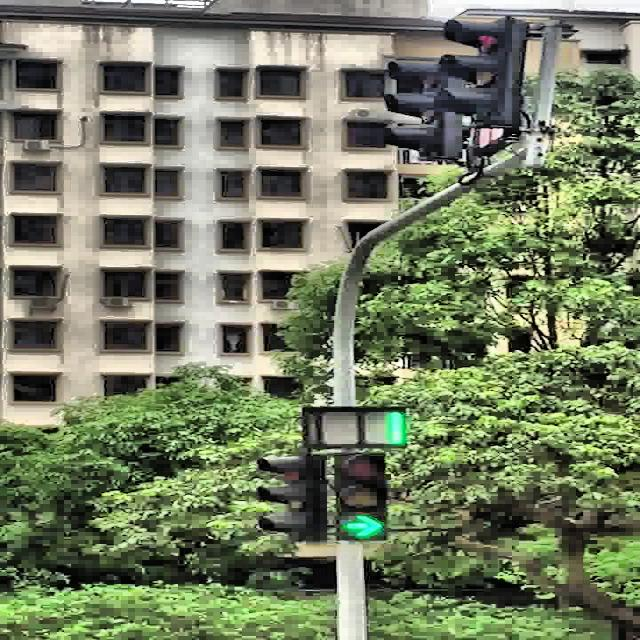green: (333, 452, 388, 542)
